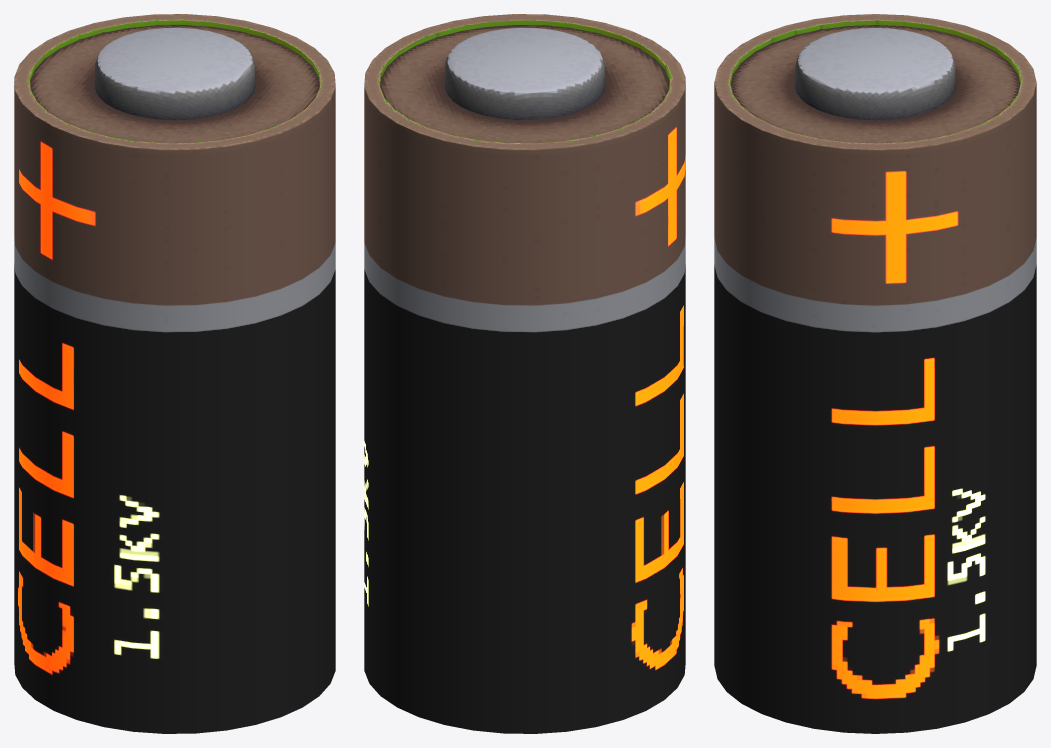
File: 51_power_battery.glb
The picture shows the model from 3 angles, left to right: view 1: azimuth 30°, elevation 25°; view 2: azimuth 150°, elevation 25°; view 3: azimuth 270°, elevation 25°; orthographic projection.
Parts seen in each view (by area): view 1: Cylinder; view 2: Cylinder; view 3: Cylinder.
Boxes of the visible parts, left/top/right/bottom form: Cylinder: left=14, top=14, right=335, bottom=733; Cylinder: left=364, top=14, right=685, bottom=733; Cylinder: left=714, top=14, right=1036, bottom=733.
Bounding box in the file's own units: 100 × 209 × 100.
1 material, 1 textured.
